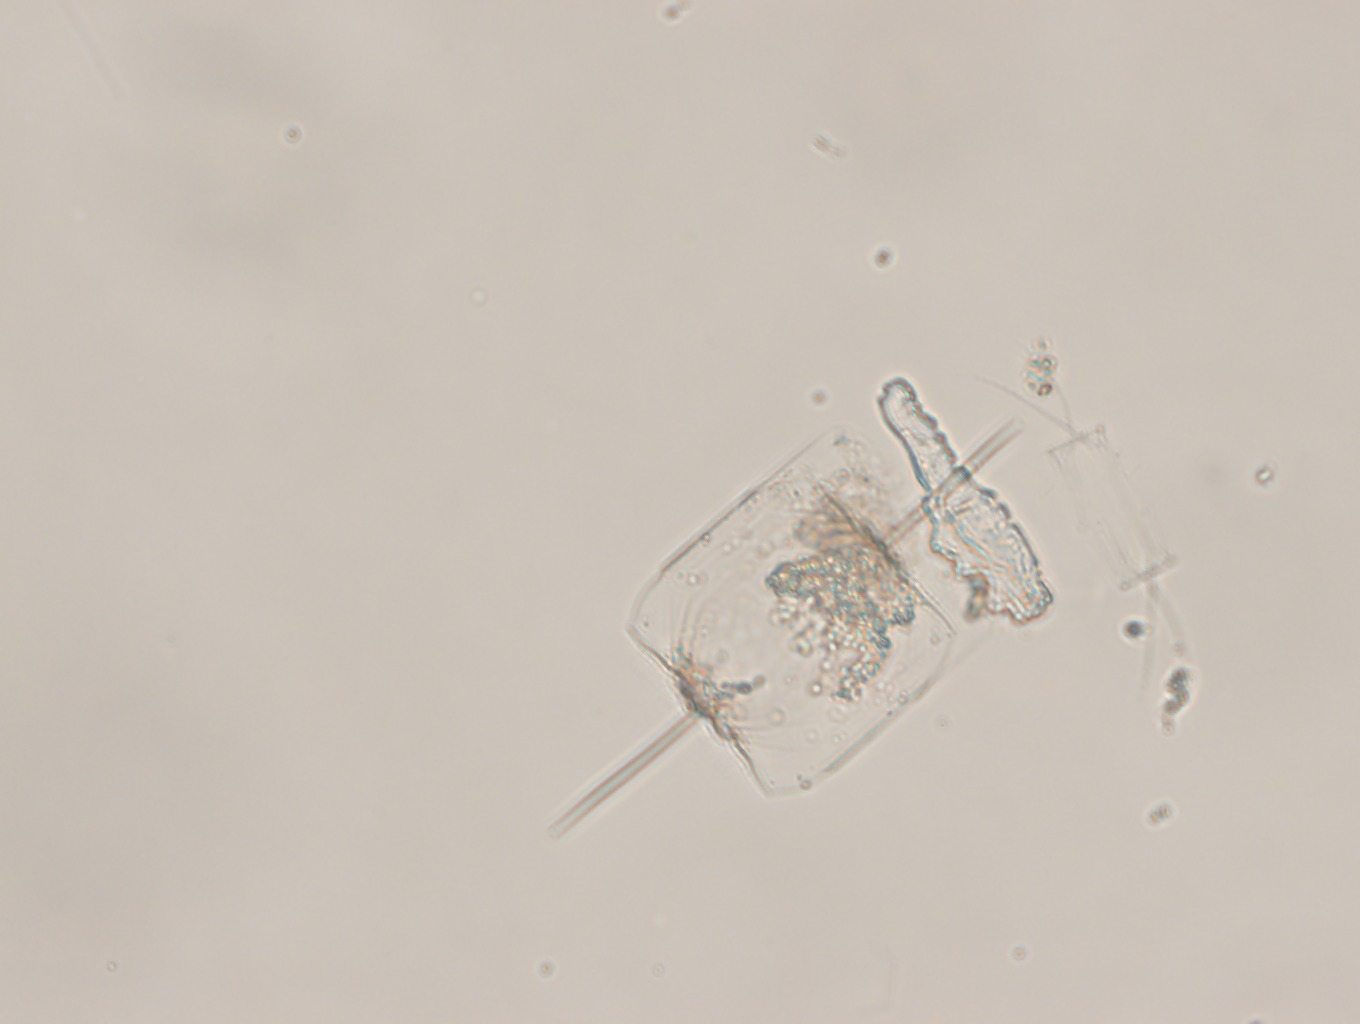chaetoceros: (980, 335, 1209, 697)
ditylum: (525, 406, 1027, 844)
